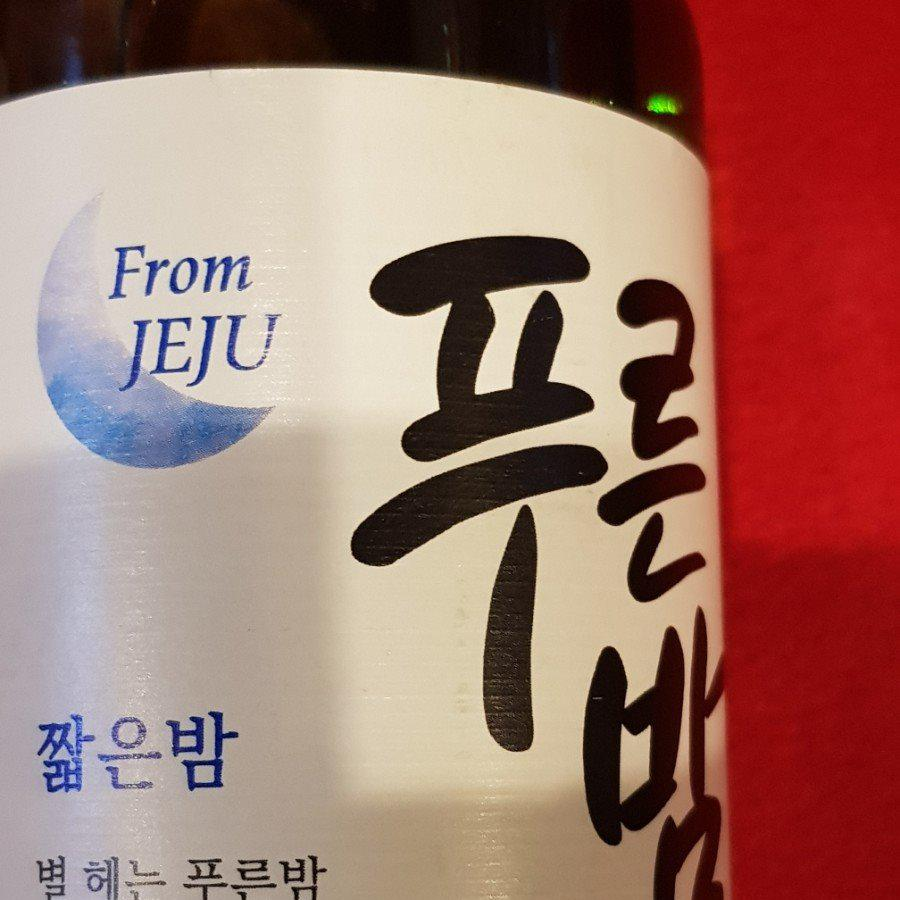soju: (2, 7, 741, 900)
